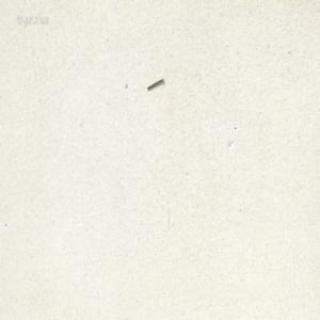Bolttrack_idkeyframe: (145, 75, 163, 88)
